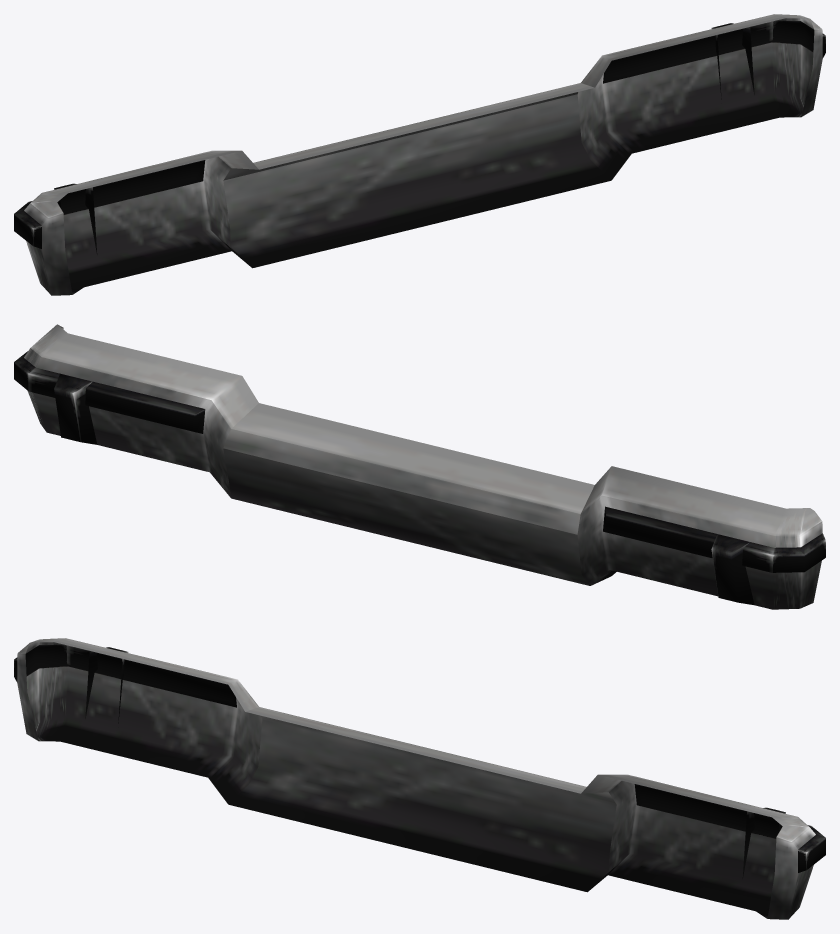
The model's file is bumper_f.fbx.
3 renders of one model, top to bottom at view 1: azimuth 30°, elevation 25°; view 2: azimuth 150°, elevation 25°; view 3: azimuth 330°, elevation 25°, orthographic.
Visible parts, largest first — view 1: node_7094400e_bd0f_4b23_8a2a_2f0240584ebf_mesh0, node_c77c1c4b_1e2b_481f_80a4_d26fe323ca9d_mesh0; view 2: node_7094400e_bd0f_4b23_8a2a_2f0240584ebf_mesh0, node_c77c1c4b_1e2b_481f_80a4_d26fe323ca9d_mesh0; view 3: node_7094400e_bd0f_4b23_8a2a_2f0240584ebf_mesh0, node_c77c1c4b_1e2b_481f_80a4_d26fe323ca9d_mesh0.
Part boxes in pixels (box(x1,y1,x2,y2)): node_7094400e_bd0f_4b23_8a2a_2f0240584ebf_mesh0: box(24, 14, 822, 295); node_c77c1c4b_1e2b_481f_80a4_d26fe323ca9d_mesh0: box(14, 20, 825, 254); node_7094400e_bd0f_4b23_8a2a_2f0240584ebf_mesh0: box(24, 324, 822, 609); node_c77c1c4b_1e2b_481f_80a4_d26fe323ca9d_mesh0: box(14, 351, 825, 605); node_7094400e_bd0f_4b23_8a2a_2f0240584ebf_mesh0: box(17, 638, 815, 919); node_c77c1c4b_1e2b_481f_80a4_d26fe323ca9d_mesh0: box(14, 644, 825, 878).
Size of the model in its own units: 207 by 28.69 by 20.99.
